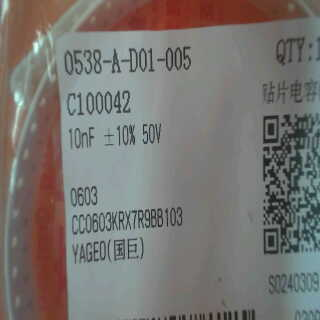10nF: (64, 123, 98, 154)
